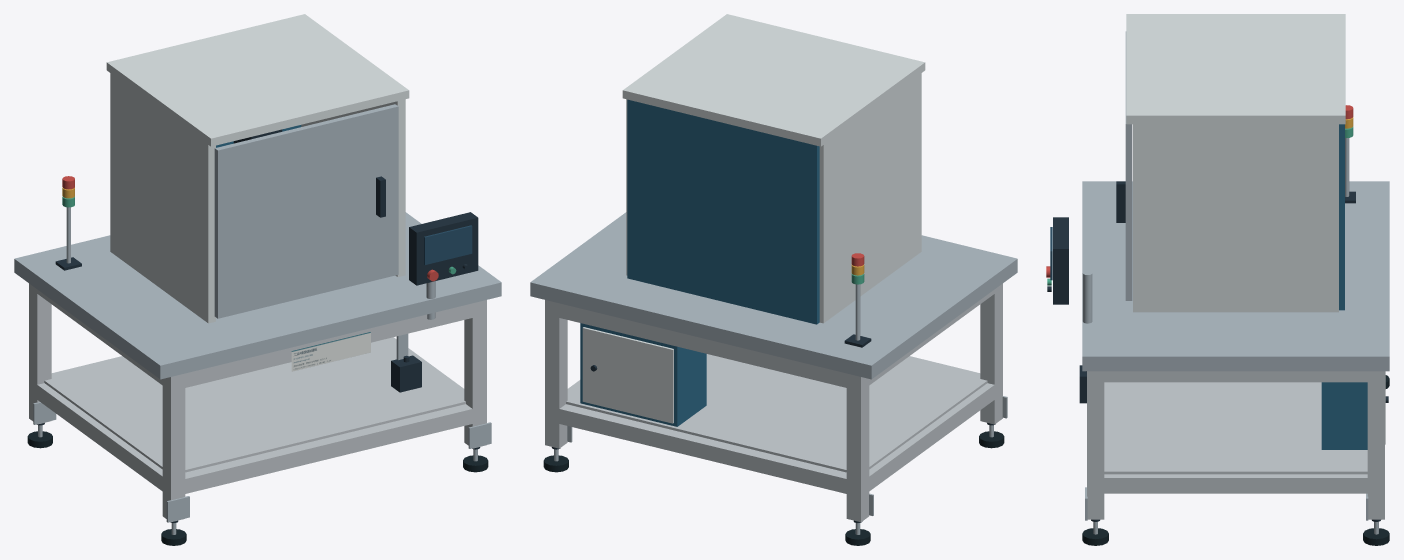
File: industrial-xray-cell.glb
The picture shows the model from 3 angles, left to right: view 1: azimuth 30°, elevation 25°; view 2: azimuth 150°, elevation 25°; view 3: azimuth 270°, elevation 25°; orthographic projection. The views are drawn at different scales.
Visible parts, largest first — view 1: DoorFrame_52, ClosedMachineBed_28, LowerShelf_29, ClosedRoof_51, EnclosureSide_48, SlottedExtrusion_22, SlottedExtrusion_23, SlottedExtrusion_8, SlottedExtrusion_24, ConsoleBack_34, SlottedExtrusion_18, SlottedExtrusion_3 (+5 smaller); view 2: ClosedBack_50, ClosedMachineBed_28, ClosedRoof_51, LowerShelf_29, EnclosureSide_48, BackDoor_31, SlottedExtrusion_20, SlottedExtrusion_21, SlottedExtrusion_3, Cabinet_30, SlottedExtrusion_13, SlottedExtrusion_24 (+2 smaller); view 3: EnclosureSide_49, ClosedMachineBed_28, ClosedRoof_51, LowerShelf_29, SlottedExtrusion_26, SlottedExtrusion_27, Cabinet_30, SlottedExtrusion_18, SlottedExtrusion_13, DoorFrame_52, ConsoleBack_34, ClosedBack_50 (+2 smaller).
Part boxes in pixels (<box>): DoorFrame_52: <box>214,104,398,318</box>; ClosedMachineBed_28: <box>14,212,501,379</box>; LowerShelf_29: <box>44,338,465,472</box>; ClosedRoof_51: <box>106,14,409,146</box>; EnclosureSide_48: <box>110,73,215,323</box>; SlottedExtrusion_22: <box>178,404,476,495</box>; SlottedExtrusion_23: <box>178,303,472,388</box>; SlottedExtrusion_8: <box>162,373,185,522</box>; SlottedExtrusion_24: <box>33,383,166,493</box>; ConsoleBack_34: <box>409,212,478,285</box>; SlottedExtrusion_18: <box>464,300,486,448</box>; SlottedExtrusion_3: <box>29,283,51,424</box>; ClosedBack_50: <box>627,99,819,324</box>; ClosedMachineBed_28: <box>530,212,1017,379</box>; ClosedRoof_51: <box>622,14,925,146</box>; LowerShelf_29: <box>566,354,987,472</box>; EnclosureSide_48: <box>819,73,921,323</box>; BackDoor_31: <box>582,327,673,423</box>; SlottedExtrusion_20: <box>553,404,853,494</box>; SlottedExtrusion_21: <box>559,303,853,387</box>; SlottedExtrusion_3: <box>846,373,869,522</box>; Cabinet_30: <box>580,323,706,426</box>; SlottedExtrusion_13: <box>545,300,567,448</box>; SlottedExtrusion_24: <box>865,383,994,493</box>; EnclosureSide_49: <box>1133,124,1338,312</box>; ClosedMachineBed_28: <box>1082,181,1389,371</box>; ClosedRoof_51: <box>1126,14,1345,124</box>; LowerShelf_29: <box>1104,382,1367,474</box>; SlottedExtrusion_26: <box>1095,474,1376,493</box>; SlottedExtrusion_27: <box>1095,371,1376,382</box>; Cabinet_30: <box>1321,382,1367,449</box>; SlottedExtrusion_18: <box>1087,371,1104,519</box>; SlottedExtrusion_13: <box>1367,371,1384,519</box>; DoorFrame_52: <box>1125,31,1132,300</box>; ConsoleBack_34: <box>1053,217,1068,304</box>; ClosedBack_50: <box>1339,124,1344,310</box>.
Size of the model in its own units: 1.55 by 1.64 by 1.29.
Materials: 11 (1 with a texture image).
